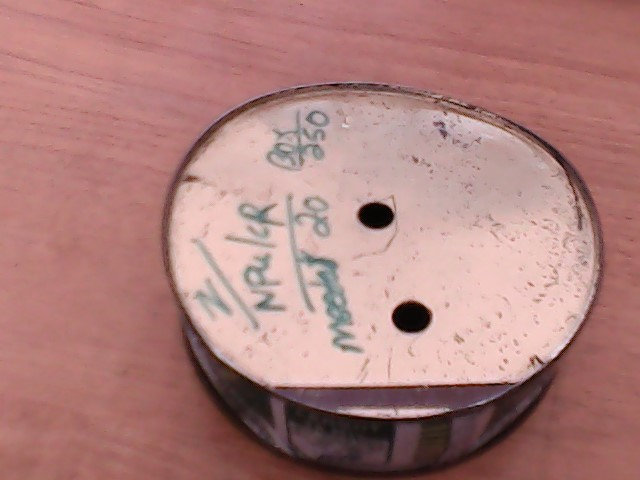Metal: (149, 67, 640, 480)
